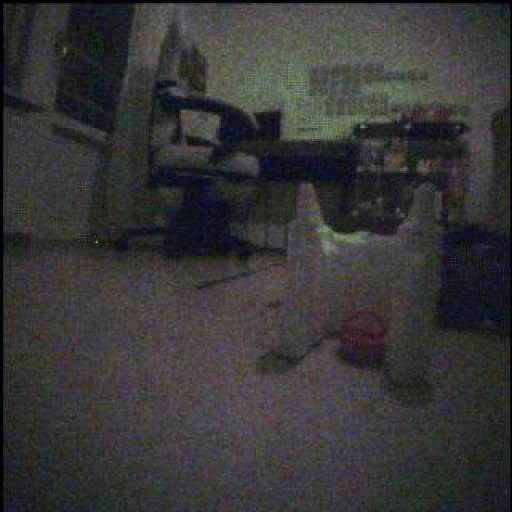basket: (342, 312, 388, 368)
